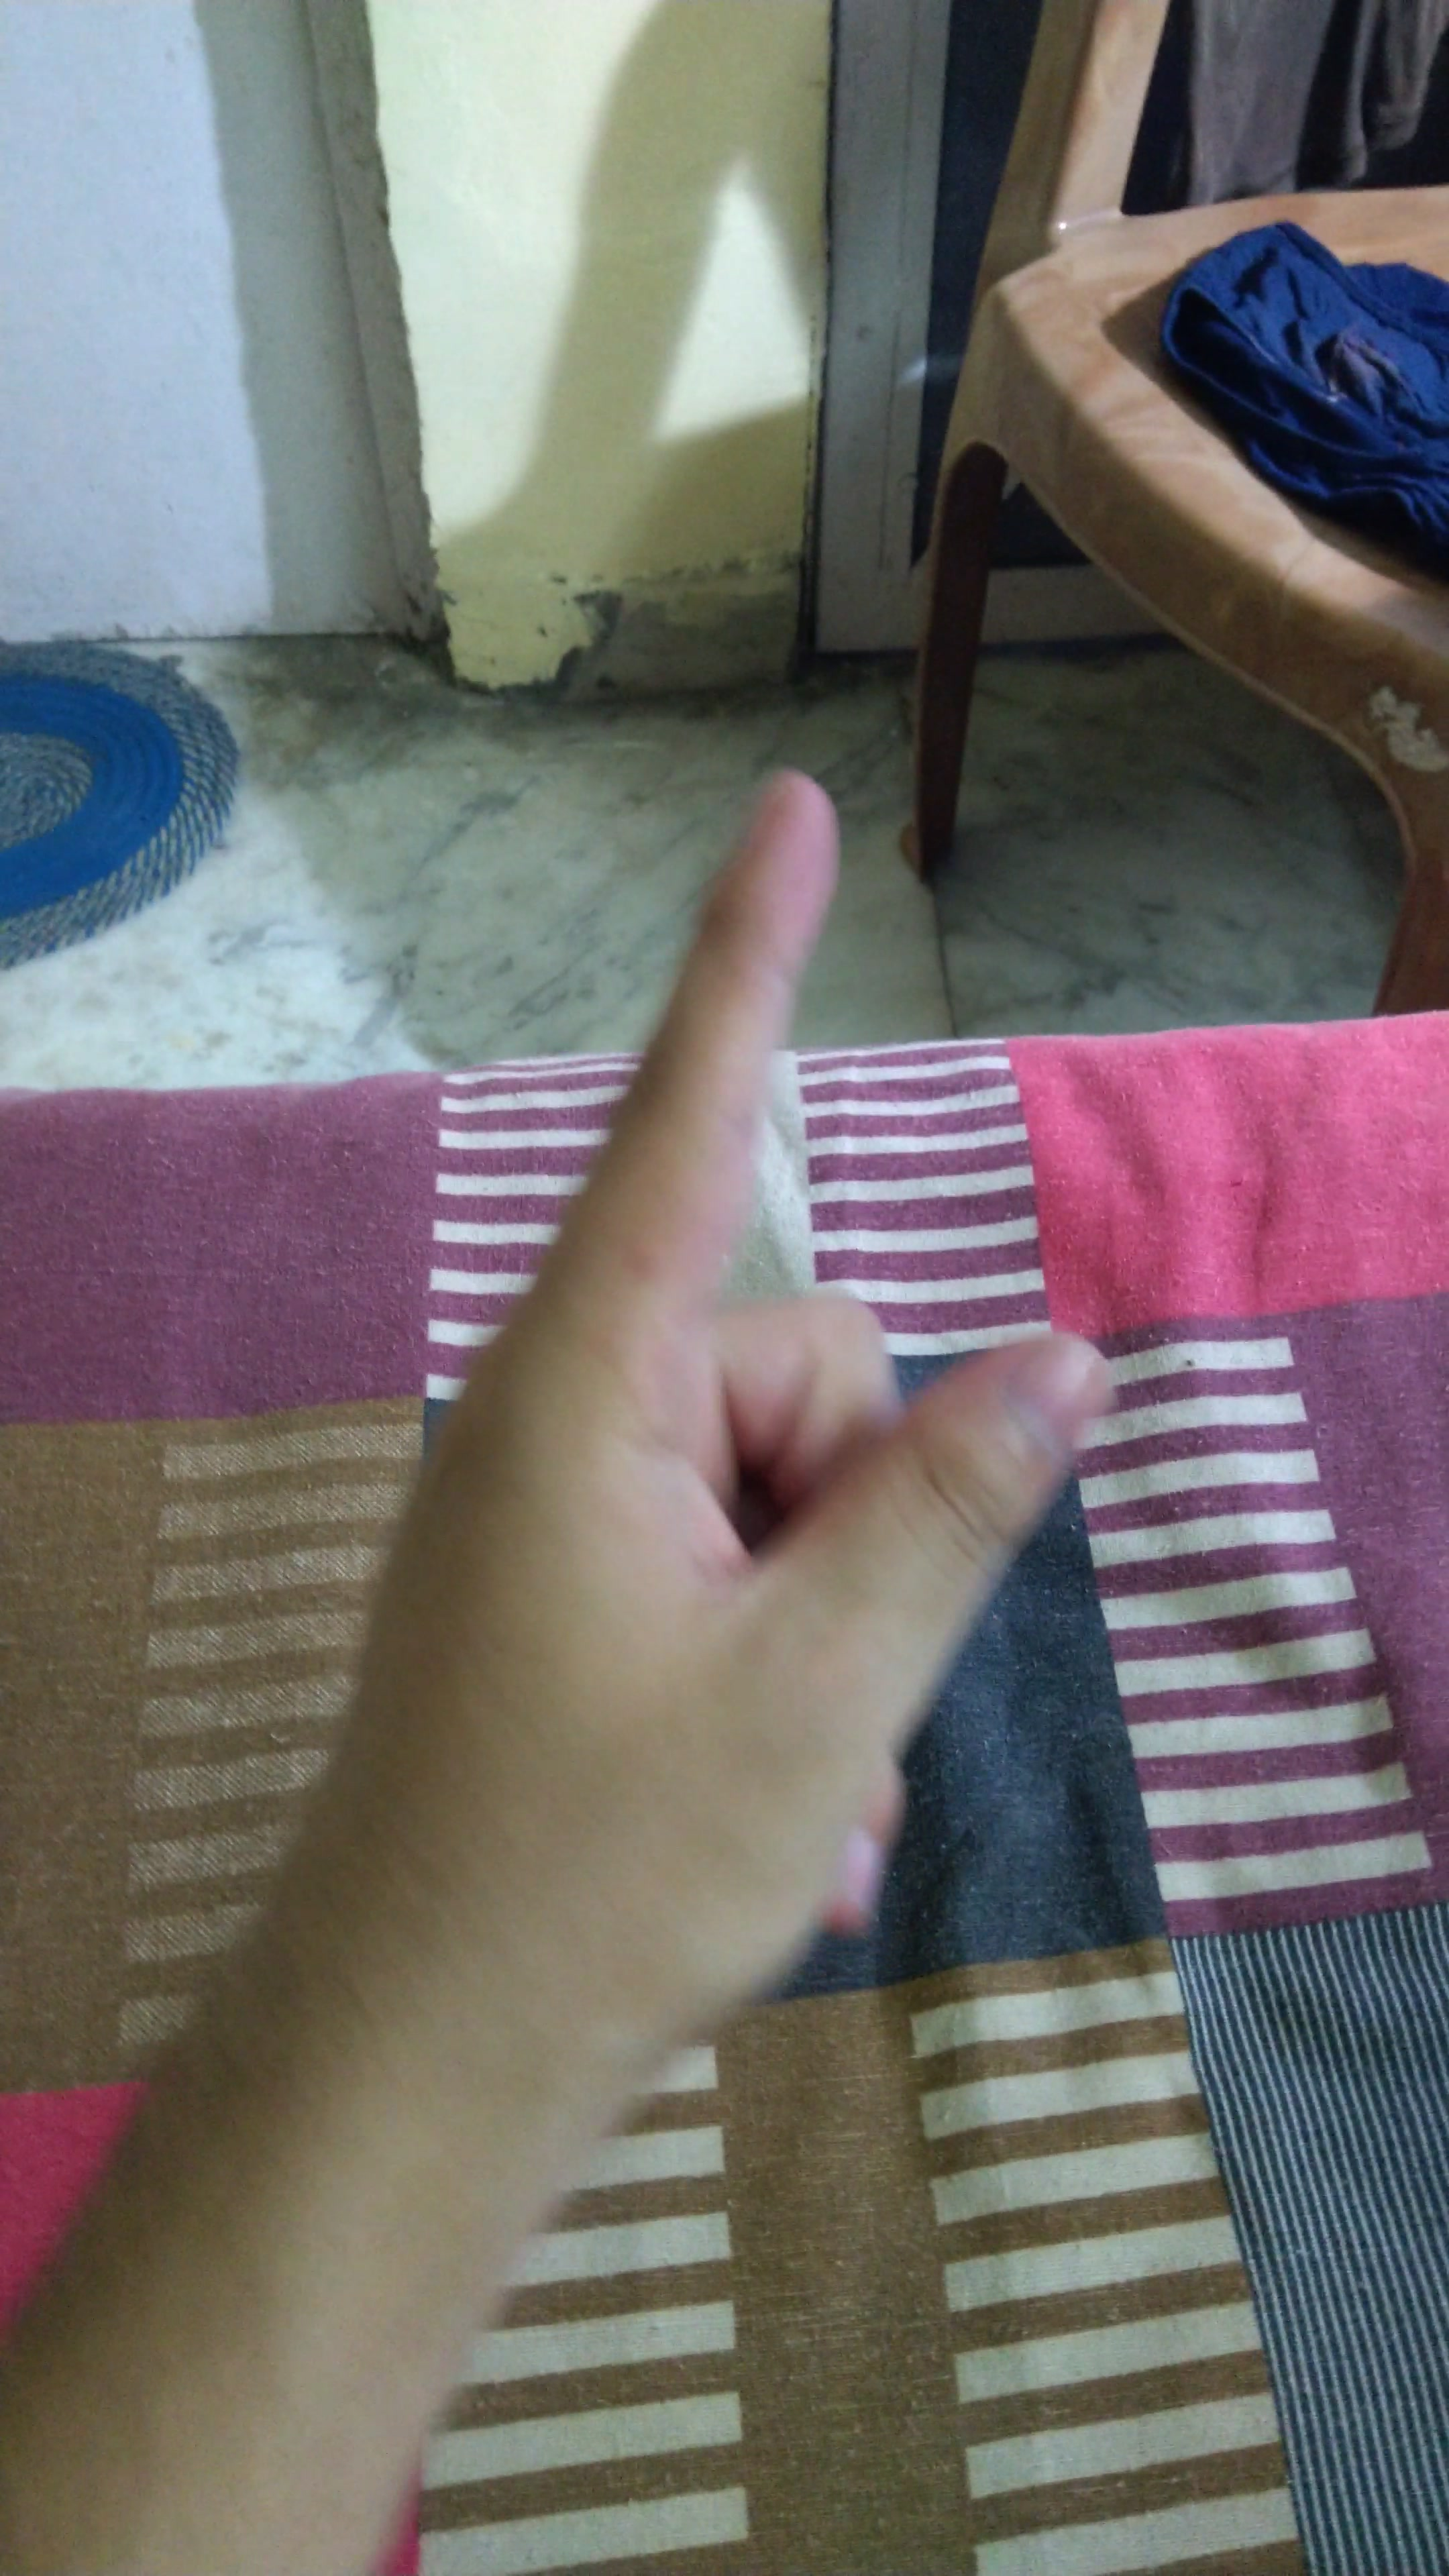hand: (326, 729, 1131, 2102)
